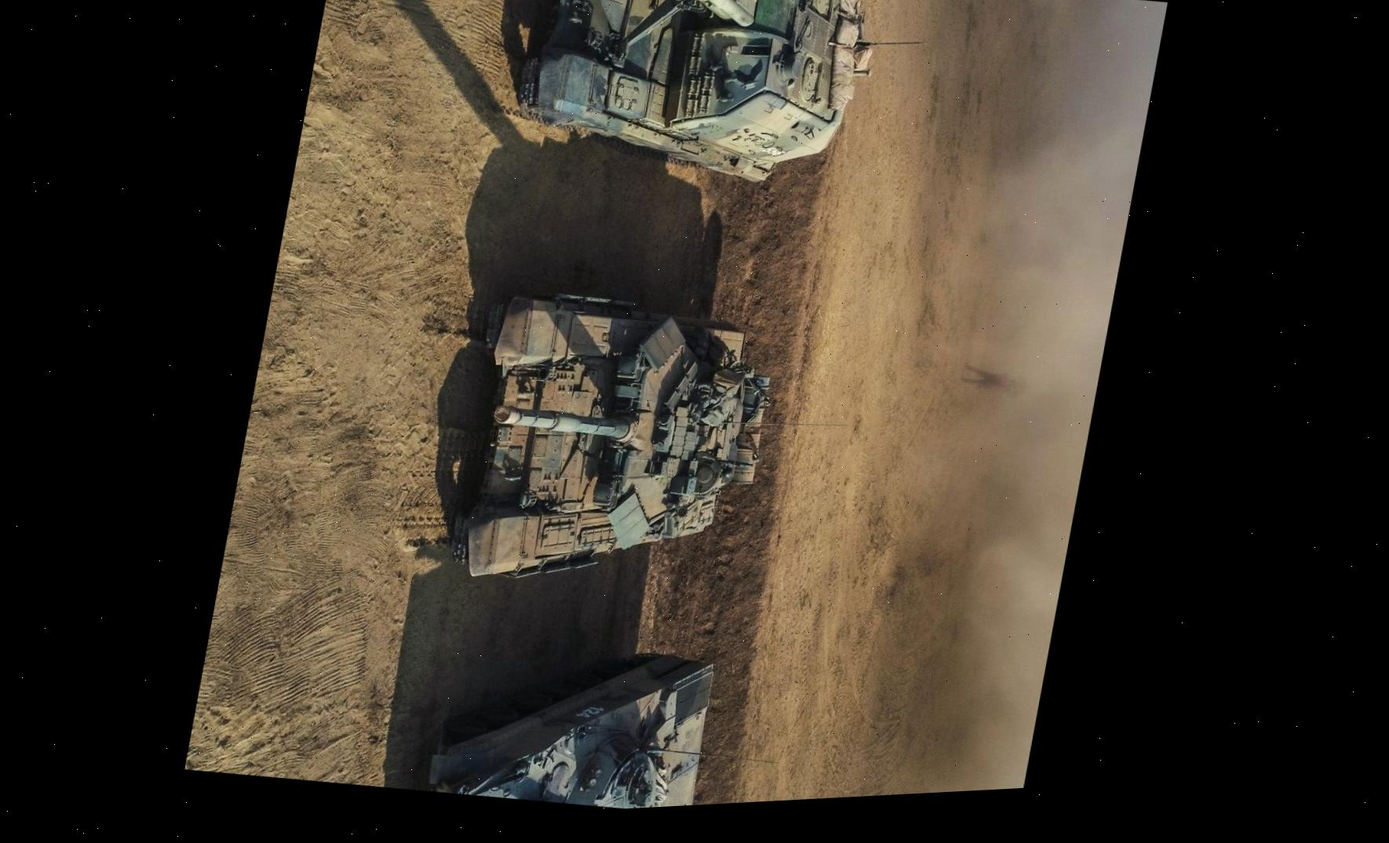armored_car: (413, 0, 902, 221), (422, 618, 722, 819)
tank: (440, 264, 794, 619)
